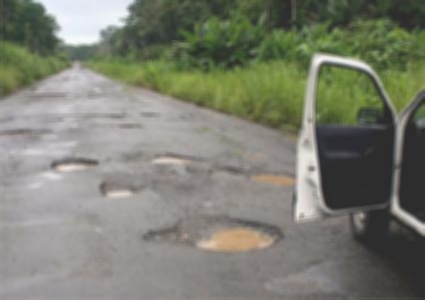pothole: (140, 212, 285, 252), (243, 167, 296, 185), (48, 155, 98, 170), (97, 181, 136, 199), (149, 151, 192, 164), (0, 125, 50, 136), (114, 121, 143, 129)
